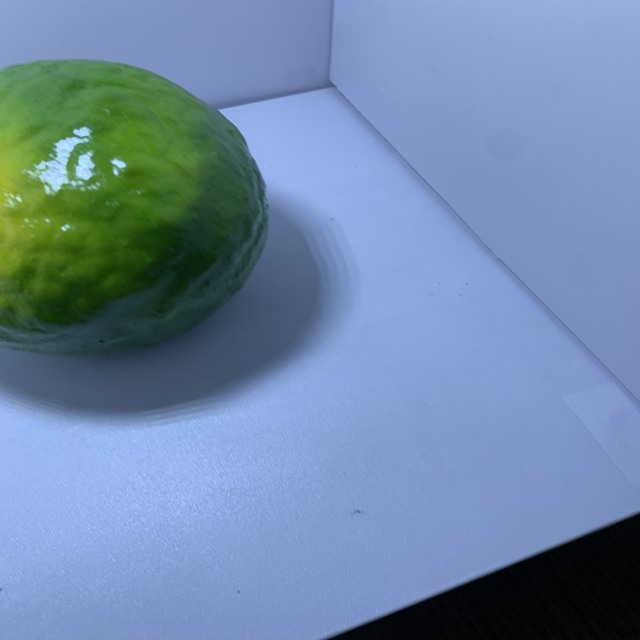Cam xanh: (0, 54, 260, 367)
